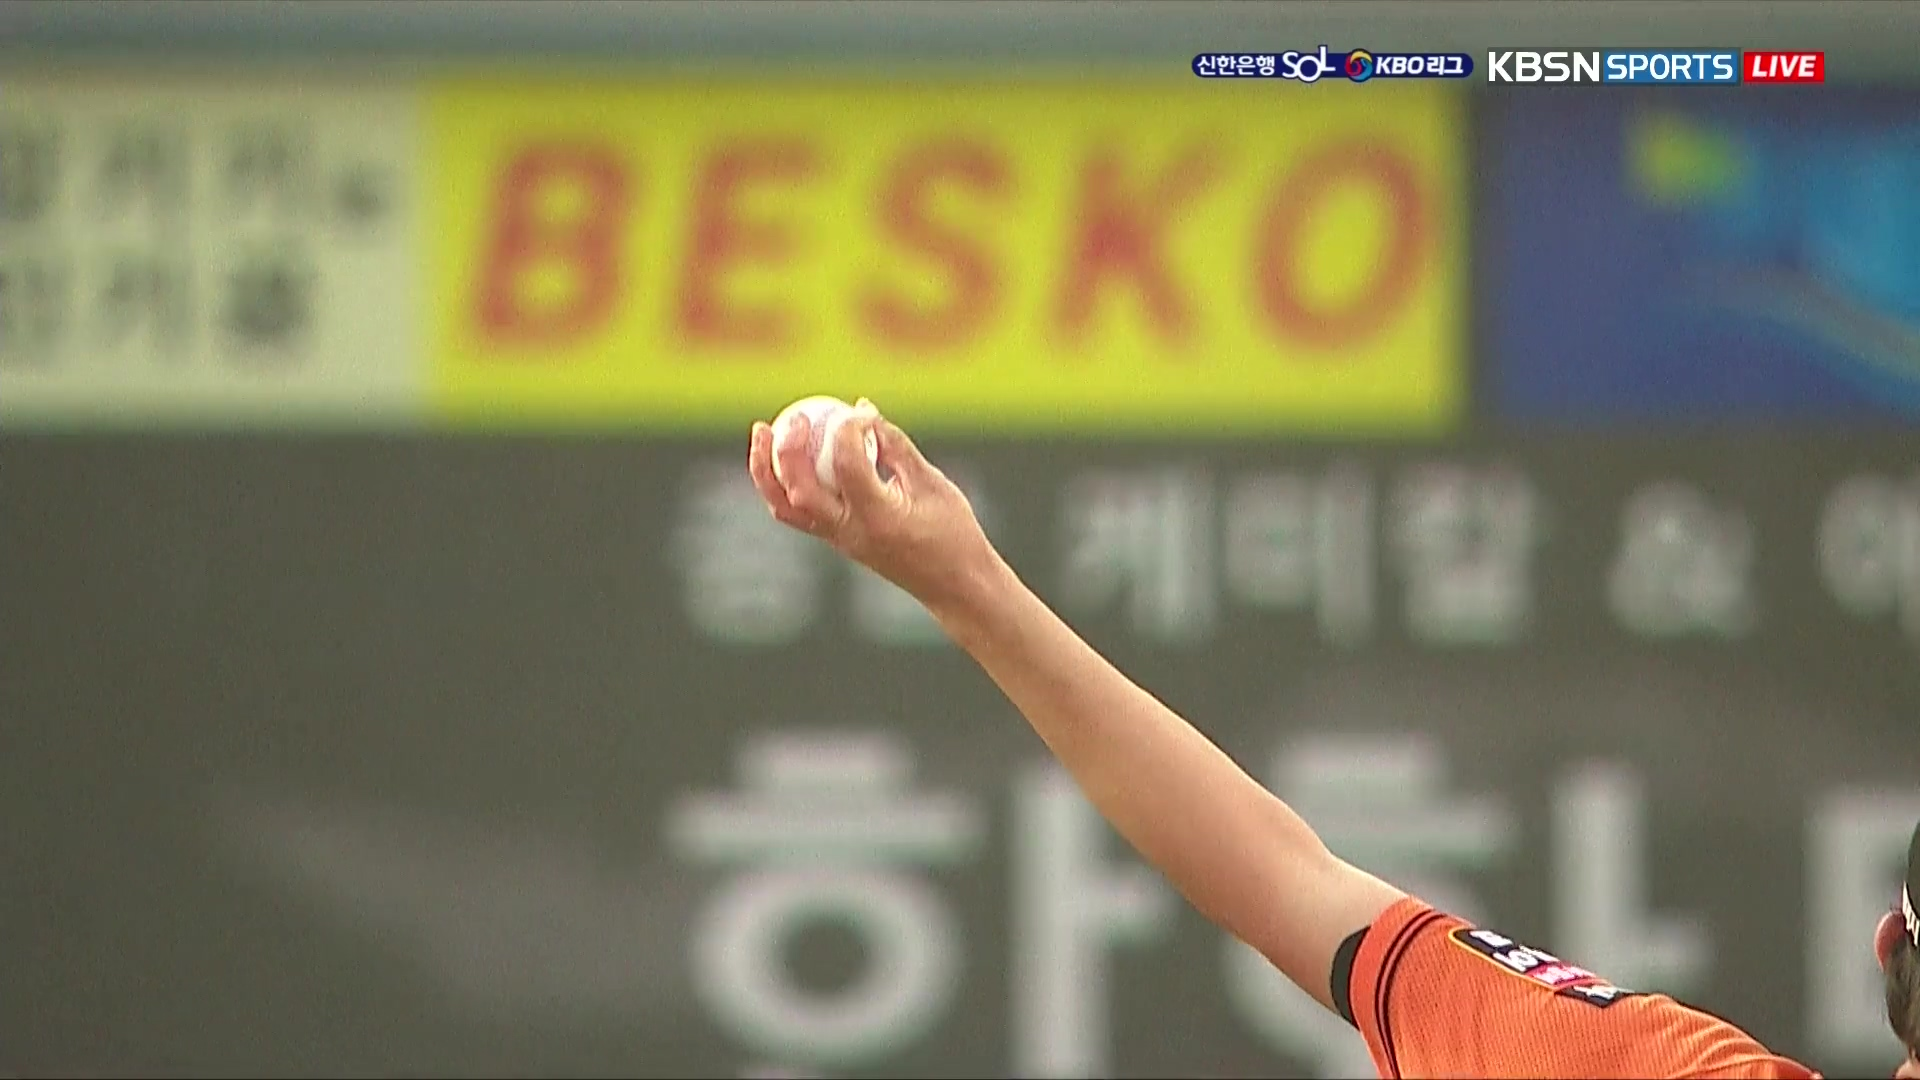zoomin_hand: (724, 376, 1338, 978)
